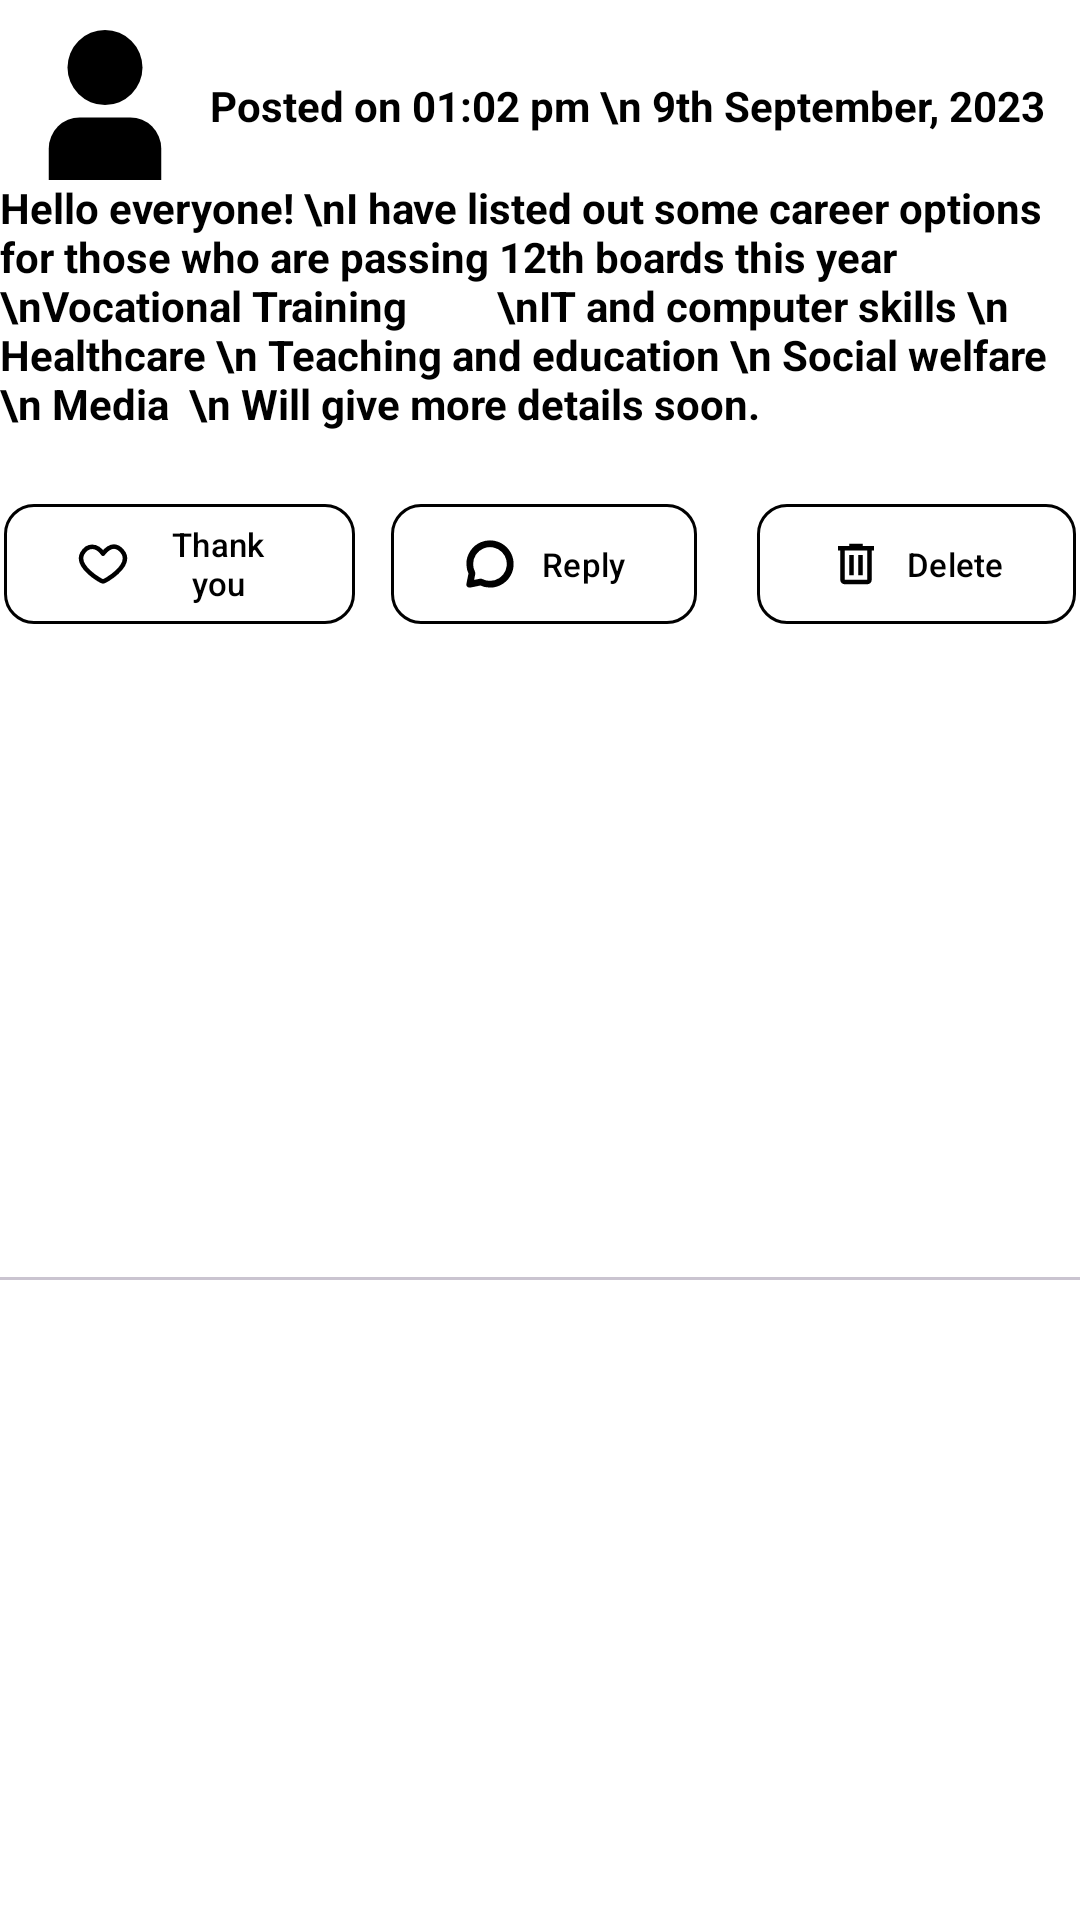

Screen size 1080*1920. Icon name, then its box in pixels as (x1, y1, x2, y2):
user: (48, 30, 162, 180)
